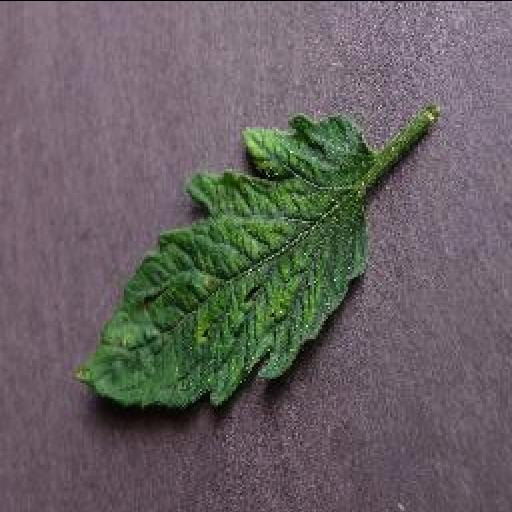disease_tomato: (67, 110, 373, 410)
